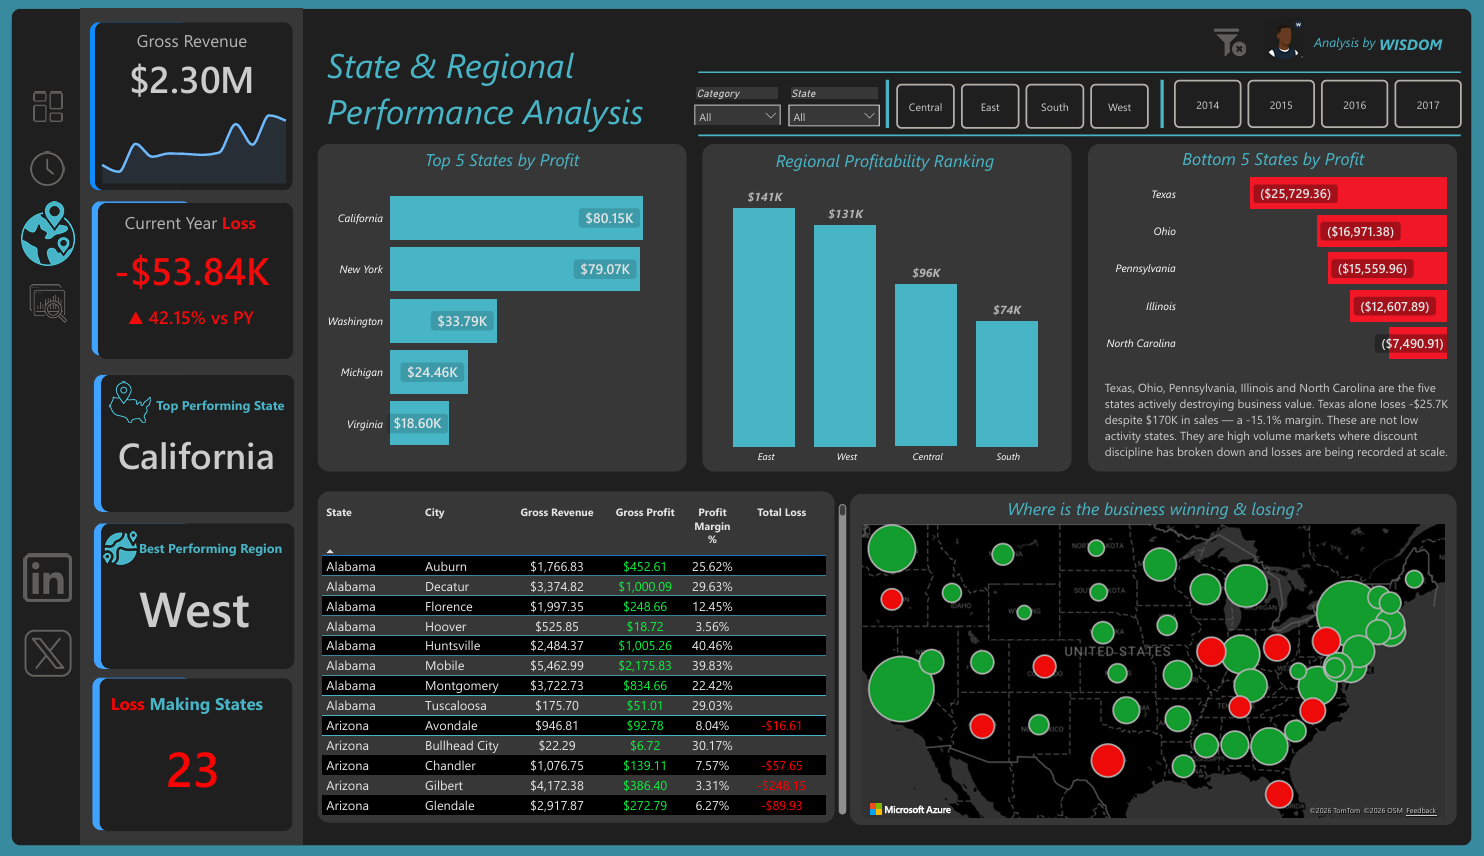

The page's visual inventory and layout, read from the dashboard file:
{"tool":"powerbi","page":{"name":"State & Regional Performance Analysis","canvas":[1900,1080],"ordinal":2},"visuals":[{"type":"group","id":"g1","title":"Group 1","box":[134.3,32.8,253.6,210.3],"z":0,"group":"g7"},{"type":"shape","box":[134.3,32.8,123.9,209.8],"z":0,"group":"g1"},{"type":"group","id":"g2","title":"Group 9","box":[1096.3,32.8,277.4,53.7],"z":0},{"type":"textbox","box":[1661.6,41.8,96.3,62.6],"z":0,"group":"g6"},{"type":"shape","box":[135.7,257.3,125.1,192.8],"z":0,"group":"g8"},{"type":"cardVisual","fields":{"Data":["Yoys.Current Year Total Loss"]},"box":[71.3,281.4,381.6,118.4],"z":0,"group":"g9"},{"type":"shape","box":[138.8,473.6,123.8,171.5],"z":0,"group":"g5"},{"type":"shape","box":[138.9,659.5,124,181.9],"z":0,"group":"g4"},{"type":"group","id":"g3","title":"Group 8","box":[137.2,853.2,250.6,192.4],"z":0,"group":"g12"},{"type":"shape","box":[137.2,853.2,123.8,190.9],"z":0,"group":"g3"},{"type":"shape","box":[35.8,16.4,1828.2,1046.8],"z":1000},{"type":"shape","box":[140.3,32.8,247.8,209.8],"z":1000,"group":"g1"},{"type":"textbox","box":[1739.8,41.8,96.3,62.6],"z":1000,"group":"g6"},{"type":"cardVisual","fields":{"Data":["KPIs.Gross Revenue"]},"box":[126.8,43.2,270,117.8],"z":1000,"group":"g7"},{"type":"shape","box":[143.2,259.4,244.5,195.4],"z":1000,"group":"g8"},{"type":"textbox","box":[168.6,262.5,183.5,53.7],"z":1000,"group":"g9"},{"type":"shape","box":[147.7,473.6,241.6,171.5],"z":1000,"group":"g5"},{"type":"shape","box":[147.5,659.6,242,181.9],"z":1000,"group":"g4"},{"type":"shape","box":[146.1,854.7,241.6,190.9],"z":1000,"group":"g3"},{"type":"cardVisual","fields":{"Data":["KPIs.Loss Making States"]},"box":[124.3,917.1,278.8,92.4],"z":1000,"group":"g12"},{"type":"textbox","box":[170.1,35.8,183.5,53.7],"z":2000,"group":"g7"},{"type":"slicer","fields":{"Values":["Superstore Sales Data.State"]},"box":[998.7,109.2,134.2,54.6],"z":2000},{"type":"textbox","box":[154.9,864.7,221.3,42.8],"z":2000,"group":"g12"},{"type":"shape","box":[122.3,16.4,278.9,1046.8],"z":3000},{"type":"lineChart","fields":{"Y":["Dax.Gross Revenue"],"Category":["Superstore Sales Data.Order Date.Variation.Date Hierarchy.Month"]},"box":[135.7,123.8,256.5,116.3],"z":3000,"group":"g7"},{"type":"slicer","fields":{"Values":["Superstore Sales Data.Category"]},"box":[880.7,109.2,128.3,51.6],"z":4000},{"type":"cardVisual","fields":{"Data":["Kpi Labels.Loss Display"]},"box":[135,366.9,251.7,67.4],"z":4000,"group":"g9"},{"type":"shape","box":[419,619.6,647.6,414.5],"z":5000},{"type":"shape","box":[1085.8,622.6,759.8,414.5],"z":6000},{"type":"shape","box":[419.1,185,462.4,410.2],"z":7000},{"type":"shape","box":[900.9,185,462.4,410.2],"z":8000},{"type":"shape","box":[1384.2,185,462.4,410.2],"z":9000},{"type":"clusteredBarChart","fields":{"Category":["Superstore Sales Data.State"],"Y":["KPIs.Gross Profit"]},"box":[419,212.4,482.4,382.1],"z":10000},{"type":"advancedSlicerVisual","fields":{"Values":["Superstore Sales Data.Ship Date.Variation.Date Hierarchy.Year"]},"box":[1487.1,100.3,371.8,70.8],"z":11000},{"type":"textbox","box":[426.3,51.6,463.2,143.1],"z":12000},{"type":"group","id":"g4","title":"Group 2","box":[138.9,659.5,250.6,182],"z":12000,"group":"g13"},{"type":"group","id":"g5","title":"Group 3","box":[138.8,473.6,250.6,171.5],"z":13000,"group":"g11"},{"type":"image","box":[43.3,698,77.6,61.2],"z":13000},{"type":"cardVisual","fields":{"Data":["KPIs.Top Performing State"]},"box":[131,523.3,272.2,96.7],"z":14000,"group":"g11"},{"type":"image","box":[46.2,790.5,71.6,62.6],"z":14000},{"type":"group","id":"g6","title":"Group 1","box":[1661.6,41.8,174.5,62.6],"z":15000},{"type":"textbox","box":[169.7,675.2,230.1,42],"z":15000,"group":"g13"},{"type":"image","box":[1585.5,28.3,86.5,50.7],"z":16000},{"type":"cardVisual","fields":{"Data":["KPIs.Best Performing Region"]},"box":[126,717.2,278.8,92.4],"z":16000,"group":"g13"},{"type":"group","id":"g7","title":"Group 4","box":[126.8,32.8,270,210.3],"z":17000},{"type":"textbox","box":[211.5,495.3,173,43.7],"z":17000,"group":"g11"},{"type":"group","id":"g8","title":"Group 6","box":[135.7,257.3,252.1,196.9],"z":18000},{"type":"group","id":"g9","title":"Group 5","box":[71.3,262.5,381.6,171.9],"z":19000},{"type":"advancedSlicerVisual","fields":{"Values":["Superstore Sales Data.Region"]},"box":[1138.9,104.7,327.5,66.4],"z":20000},{"type":"image","box":[1540.2,38.4,45.7,39.8],"z":21000},{"type":"shape","box":[896.4,82,954.6,26.8],"z":22000},{"type":"group","id":"g10","title":"Group 9","box":[1106.3,42.8,277.4,53.7],"z":23000},{"type":"shape","box":[1462,104.7,29.5,60.5],"z":24000},{"type":"shape","box":[896.4,161.1,954.6,26.8],"z":25000},{"type":"textbox","box":[1459,182.9,314.2,48.7],"z":27000},{"type":"textbox","box":[963.3,185.9,339.3,48.7],"z":28000},{"type":"image","box":[62.6,116.3,37.3,46.2],"z":29000},{"type":"image","box":[59,188.8,42.8,54.6],"z":30000},{"type":"image","box":[58.2,353.5,47.7,64.1],"z":31000},{"type":"textbox","box":[1249.5,621.1,435.2,50.2],"z":32000},{"type":"textbox","box":[480.9,185.1,338.5,47.5],"z":33000},{"type":"clusteredBarChart","fields":{"Category":["Superstore Sales Data.State"],"Y":["KPIs.Net Profit"]},"box":[1392.6,196.2,445.5,283.2],"z":35000},{"type":"shape","box":[1125.6,104.7,13.3,60.5],"z":36000},{"type":"image","box":[41.3,256.7,81.1,81.1],"z":37000},{"type":"azureMap","fields":{"Category":["Superstore Sales Data.State"],"Size":["KPIs.Gross Profit"]},"box":[1096.1,656.5,739.1,377.7],"z":38000},{"type":"columnChart","fields":{"Category":["Superstore Sales Data.Region"],"Y":["KPIs.Gross Profit"]},"box":[895.5,224.2,475,370.3],"z":39000},{"type":"textbox","box":[1400,473.6,445.5,121],"z":40000},{"type":"tableEx","fields":{"Values":["Superstore Sales Data.State","Superstore Sales Data.City","KPIs.Gross Revenue","KPIs.Gross Profit","KPIs.Profit Margin","KPIs.Total Loss(Negative Profit)"]},"box":[419,631.4,666.8,398.3],"z":41000},{"type":"group","id":"g11","title":"Group 7","box":[131,473.6,272.1,171.3],"z":42000},{"type":"group","id":"g12","title":"Group 10","box":[124.3,853.2,278.8,192.4],"z":43000},{"type":"group","id":"g13","title":"Group 11","box":[126,656.7,278.8,184.7],"z":44000},{"type":"image","box":[159.4,478.9,51.6,60.5],"z":51003,"group":"g11"},{"type":"image","box":[151.2,656.7,42,68.9],"z":51004,"group":"g13"}]}

Visuals, with their boxes in screenshot pixels (x1, y1, x2, y2), scaled from the page's 1900x1080 canvas onto the 1484x856 screenshot:
"Group 1" group: {"x1": 105, "y1": 26, "x2": 303, "y2": 193}
shape: {"x1": 105, "y1": 26, "x2": 202, "y2": 192}
"Group 9" group: {"x1": 856, "y1": 26, "x2": 1073, "y2": 69}
textbox: {"x1": 1298, "y1": 33, "x2": 1373, "y2": 83}
shape: {"x1": 106, "y1": 204, "x2": 204, "y2": 357}
cardVisual - Yoys.Current Year Total Loss: {"x1": 56, "y1": 223, "x2": 354, "y2": 317}
shape: {"x1": 108, "y1": 375, "x2": 205, "y2": 511}
shape: {"x1": 108, "y1": 523, "x2": 205, "y2": 667}
"Group 8" group: {"x1": 107, "y1": 676, "x2": 303, "y2": 829}
shape: {"x1": 107, "y1": 676, "x2": 204, "y2": 828}
shape: {"x1": 28, "y1": 13, "x2": 1456, "y2": 843}
shape: {"x1": 110, "y1": 26, "x2": 303, "y2": 192}
textbox: {"x1": 1359, "y1": 33, "x2": 1434, "y2": 83}
cardVisual - KPIs.Gross Revenue: {"x1": 99, "y1": 34, "x2": 310, "y2": 128}
shape: {"x1": 112, "y1": 206, "x2": 303, "y2": 360}
textbox: {"x1": 132, "y1": 208, "x2": 275, "y2": 251}
shape: {"x1": 115, "y1": 375, "x2": 304, "y2": 511}
shape: {"x1": 115, "y1": 523, "x2": 304, "y2": 667}
shape: {"x1": 114, "y1": 677, "x2": 303, "y2": 829}
cardVisual - KPIs.Loss Making States: {"x1": 97, "y1": 727, "x2": 315, "y2": 800}
textbox: {"x1": 133, "y1": 28, "x2": 276, "y2": 71}
slicer - Superstore Sales Data.State: {"x1": 780, "y1": 87, "x2": 885, "y2": 130}
textbox: {"x1": 121, "y1": 685, "x2": 294, "y2": 719}
shape: {"x1": 96, "y1": 13, "x2": 313, "y2": 843}
lineChart - Dax.Gross Revenue x Superstore Sales Data.Order Date.Variation.Date Hierarchy.Month: {"x1": 106, "y1": 98, "x2": 306, "y2": 190}
slicer - Superstore Sales Data.Category: {"x1": 688, "y1": 87, "x2": 788, "y2": 127}
cardVisual - Kpi Labels.Loss Display: {"x1": 105, "y1": 291, "x2": 302, "y2": 344}
shape: {"x1": 327, "y1": 491, "x2": 833, "y2": 820}
shape: {"x1": 848, "y1": 493, "x2": 1442, "y2": 822}
shape: {"x1": 327, "y1": 147, "x2": 688, "y2": 472}
shape: {"x1": 704, "y1": 147, "x2": 1065, "y2": 472}
shape: {"x1": 1081, "y1": 147, "x2": 1442, "y2": 472}
clusteredBarChart - Superstore Sales Data.State x KPIs.Gross Profit: {"x1": 327, "y1": 168, "x2": 704, "y2": 471}
advancedSlicerVisual - Superstore Sales Data.Ship Date.Variation.Date Hierarchy.Year: {"x1": 1162, "y1": 79, "x2": 1452, "y2": 136}
textbox: {"x1": 333, "y1": 41, "x2": 695, "y2": 154}
"Group 2" group: {"x1": 108, "y1": 523, "x2": 304, "y2": 667}
"Group 3" group: {"x1": 108, "y1": 375, "x2": 304, "y2": 511}
image: {"x1": 34, "y1": 553, "x2": 94, "y2": 602}
cardVisual - KPIs.Top Performing State: {"x1": 102, "y1": 415, "x2": 315, "y2": 491}
image: {"x1": 36, "y1": 627, "x2": 92, "y2": 676}
"Group 1" group: {"x1": 1298, "y1": 33, "x2": 1434, "y2": 83}
textbox: {"x1": 133, "y1": 535, "x2": 312, "y2": 568}
image: {"x1": 1238, "y1": 22, "x2": 1306, "y2": 63}
cardVisual - KPIs.Best Performing Region: {"x1": 98, "y1": 568, "x2": 316, "y2": 642}
"Group 4" group: {"x1": 99, "y1": 26, "x2": 310, "y2": 193}
textbox: {"x1": 165, "y1": 393, "x2": 300, "y2": 427}
"Group 6" group: {"x1": 106, "y1": 204, "x2": 303, "y2": 360}
"Group 5" group: {"x1": 56, "y1": 208, "x2": 354, "y2": 344}
advancedSlicerVisual - Superstore Sales Data.Region: {"x1": 890, "y1": 83, "x2": 1145, "y2": 136}
image: {"x1": 1203, "y1": 30, "x2": 1239, "y2": 62}
shape: {"x1": 700, "y1": 65, "x2": 1446, "y2": 86}
"Group 9" group: {"x1": 864, "y1": 34, "x2": 1081, "y2": 76}
shape: {"x1": 1142, "y1": 83, "x2": 1165, "y2": 131}
shape: {"x1": 700, "y1": 128, "x2": 1446, "y2": 149}
textbox: {"x1": 1140, "y1": 145, "x2": 1385, "y2": 184}
textbox: {"x1": 752, "y1": 147, "x2": 1017, "y2": 186}
image: {"x1": 49, "y1": 92, "x2": 78, "y2": 129}
image: {"x1": 46, "y1": 150, "x2": 80, "y2": 193}
image: {"x1": 45, "y1": 280, "x2": 83, "y2": 331}
textbox: {"x1": 976, "y1": 492, "x2": 1316, "y2": 532}
textbox: {"x1": 376, "y1": 147, "x2": 640, "y2": 184}
clusteredBarChart - Superstore Sales Data.State x KPIs.Net Profit: {"x1": 1088, "y1": 156, "x2": 1436, "y2": 380}
shape: {"x1": 879, "y1": 83, "x2": 890, "y2": 131}
image: {"x1": 32, "y1": 203, "x2": 96, "y2": 268}
azureMap - Superstore Sales Data.State x KPIs.Gross Profit: {"x1": 856, "y1": 520, "x2": 1433, "y2": 820}
columnChart - Superstore Sales Data.Region x KPIs.Gross Profit: {"x1": 699, "y1": 178, "x2": 1070, "y2": 471}
textbox: {"x1": 1093, "y1": 375, "x2": 1441, "y2": 471}
tableEx - Superstore Sales Data.State x Superstore Sales Data.City: {"x1": 327, "y1": 500, "x2": 848, "y2": 816}
"Group 7" group: {"x1": 102, "y1": 375, "x2": 315, "y2": 511}
"Group 10" group: {"x1": 97, "y1": 676, "x2": 315, "y2": 829}
"Group 11" group: {"x1": 98, "y1": 520, "x2": 316, "y2": 667}
image: {"x1": 124, "y1": 380, "x2": 165, "y2": 428}
image: {"x1": 118, "y1": 520, "x2": 151, "y2": 575}
